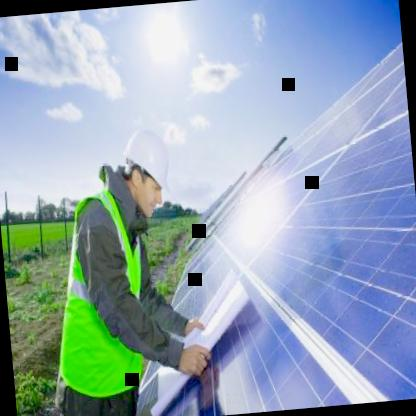helmet: (115, 121, 178, 221)
